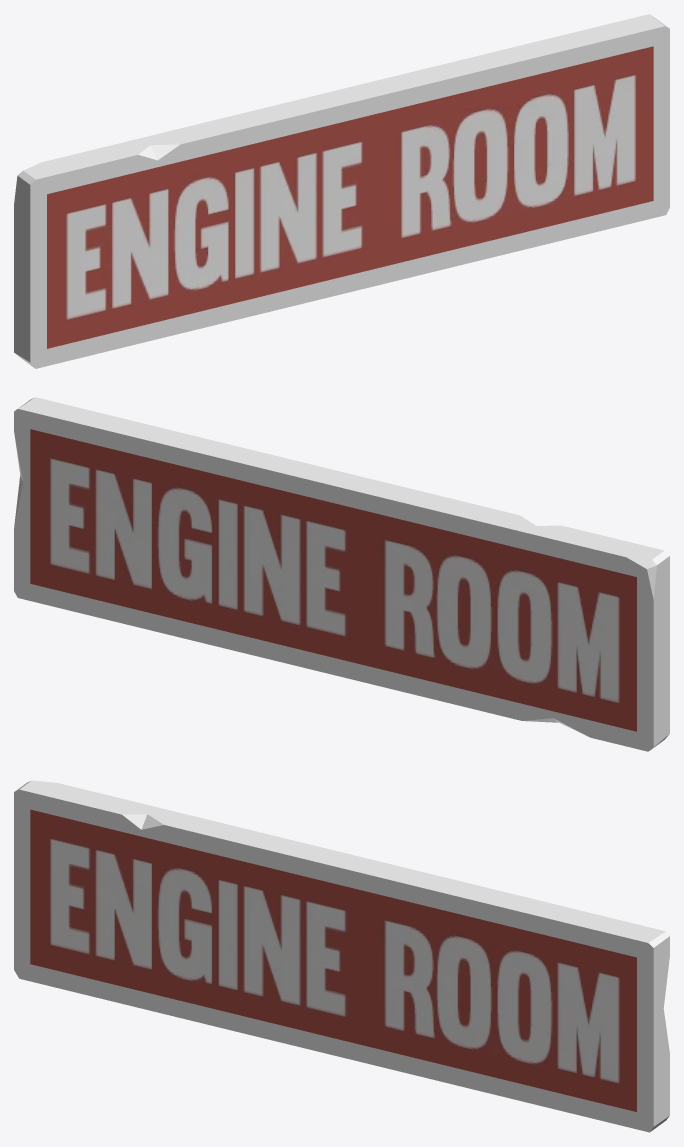
File: space_SM_Sign_EngineRoom_01.gltf
The picture shows the model from 3 angles, top to bottom: view 1: azimuth 30°, elevation 25°; view 2: azimuth 150°, elevation 25°; view 3: azimuth 330°, elevation 25°; orthographic projection.
Visible parts, largest first — view 1: SM_Sign_EngineRoom_01; view 2: SM_Sign_EngineRoom_01; view 3: SM_Sign_EngineRoom_01.
Part boxes in pixels (x1,y1,x2,y2): SM_Sign_EngineRoom_01: (14, 14, 669, 368); SM_Sign_EngineRoom_01: (14, 397, 669, 751); SM_Sign_EngineRoom_01: (14, 780, 669, 1132).
Size of the model in its own units: 3.25 by 0.918 by 0.1442.
Materials: 1 (1 with a texture image).
